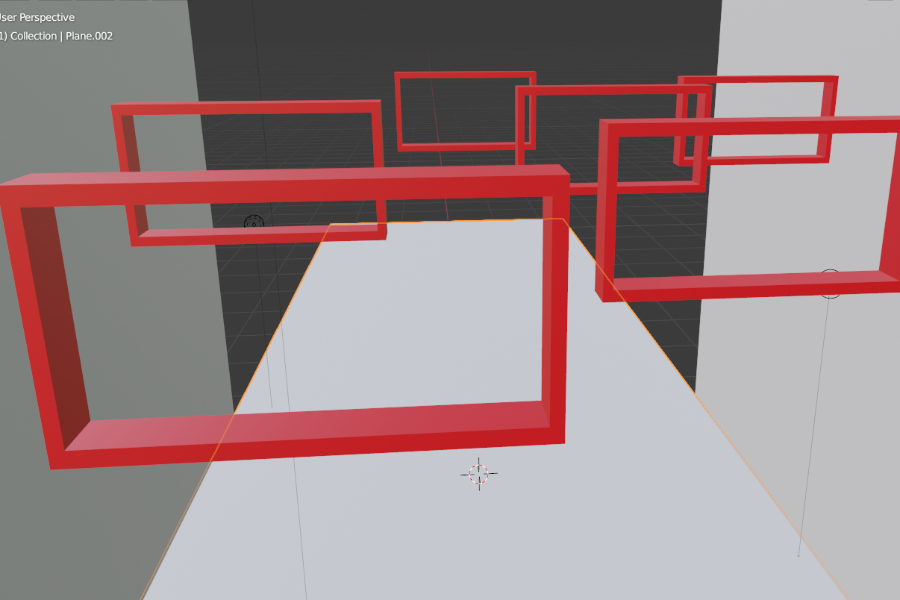GATE: (0, 161, 559, 476), (593, 104, 899, 304), (104, 103, 386, 245), (510, 83, 713, 205), (673, 70, 836, 166), (395, 60, 539, 152)
